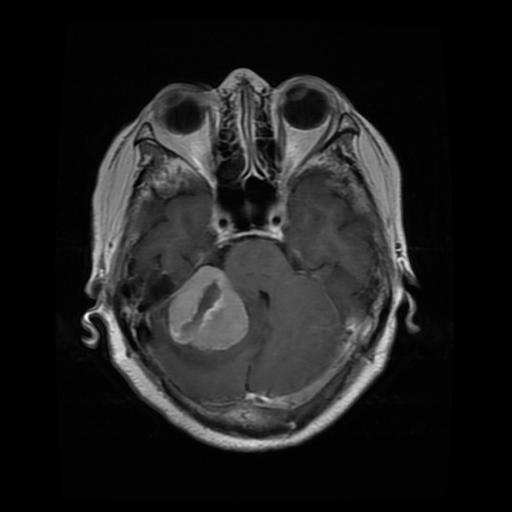Menigiomia_tumour: (167, 264, 247, 350)
